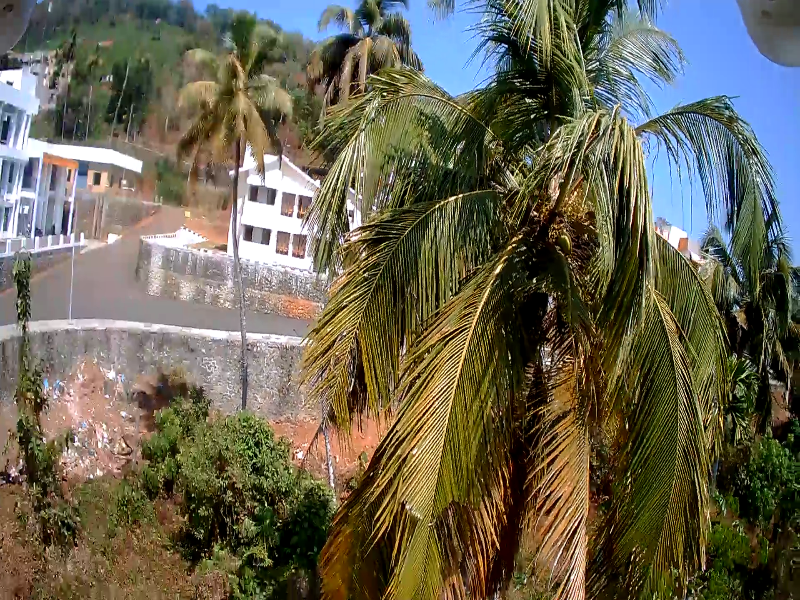coconut: (550, 227, 572, 257)
